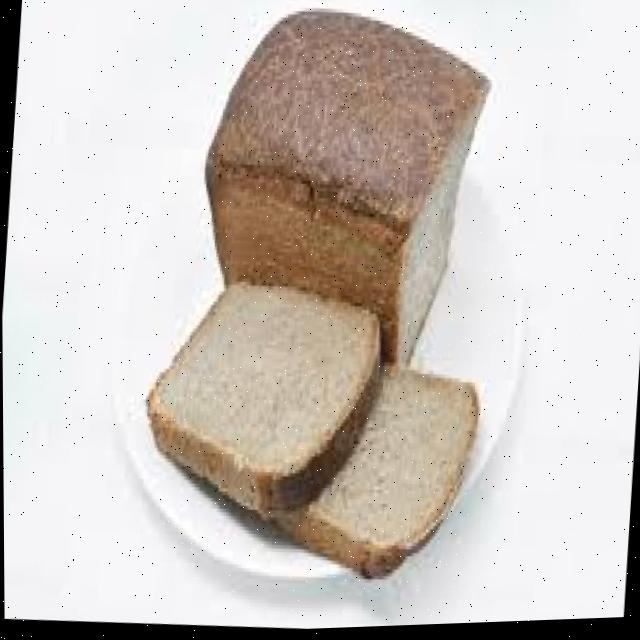Bread: (148, 286, 378, 516), (275, 376, 477, 579)
